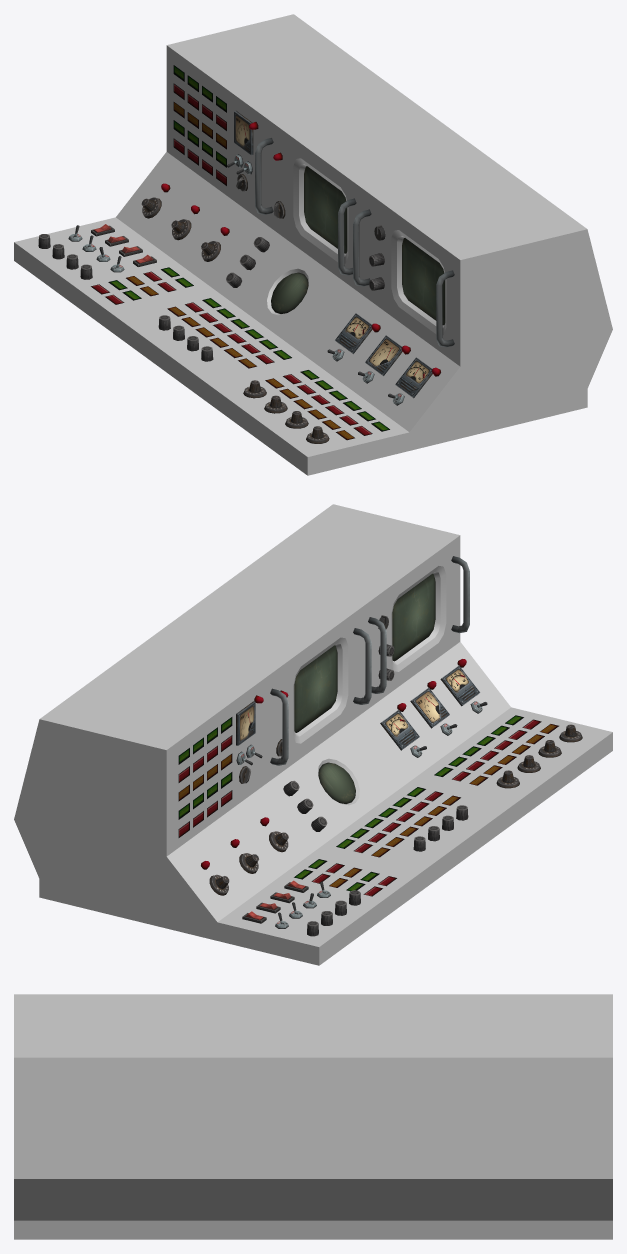
File: ctrlPanel_middle01_C.FBX
3 views of the same model, one above another, from view 1: azimuth 30°, elevation 25°; view 2: azimuth 150°, elevation 25°; view 3: azimuth 270°, elevation 25° (orthographic).
Parts seen in each view (by area): view 1: ctrlPanel_middle01_C, ctrlPanel_buttons, ctrlPanel_gauges, screen_computer02, screen_computer01, screen_radar; view 2: ctrlPanel_middle01_C, ctrlPanel_buttons, ctrlPanel_gauges, screen_computer01, screen_computer02, screen_radar; view 3: ctrlPanel_middle01_C.
Boxes of the visible parts, box(x1,y1,x2,y2) form: ctrlPanel_middle01_C: box(14, 14, 612, 475); ctrlPanel_buttons: box(91, 65, 440, 440); ctrlPanel_gauges: box(234, 111, 432, 398); screen_computer02: box(402, 238, 445, 325); screen_computer01: box(304, 166, 347, 253); screen_radar: box(271, 272, 308, 313); ctrlPanel_middle01_C: box(14, 504, 612, 965); ctrlPanel_buttons: box(178, 659, 558, 896); ctrlPanel_gauges: box(236, 665, 480, 750); screen_computer01: box(294, 645, 337, 732); screen_computer02: box(392, 573, 435, 661); screen_radar: box(318, 762, 355, 803); ctrlPanel_middle01_C: box(14, 994, 612, 1239).
Bounding box in the file's own units: 120 × 67 × 200.
